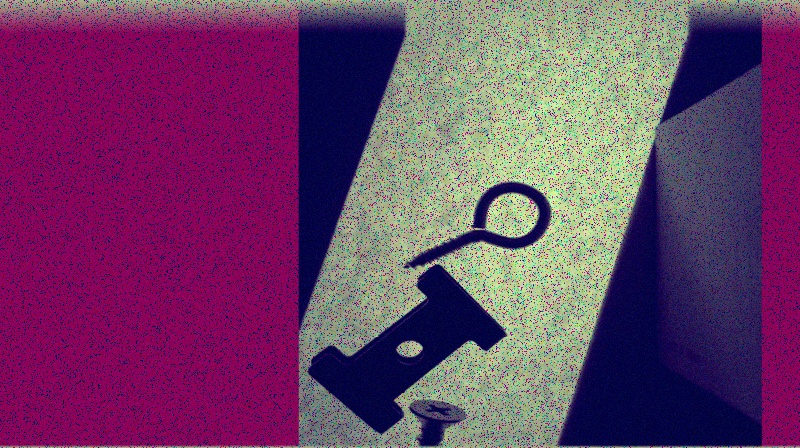O001: (400, 178, 554, 269)
O002: (306, 262, 508, 435)
S001: (390, 394, 470, 447)
